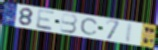7: (106, 19, 120, 41)
8: (18, 7, 34, 27)
B: (60, 12, 79, 34)
C: (79, 18, 99, 36)
E: (35, 9, 56, 32)
I: (124, 22, 134, 44)
